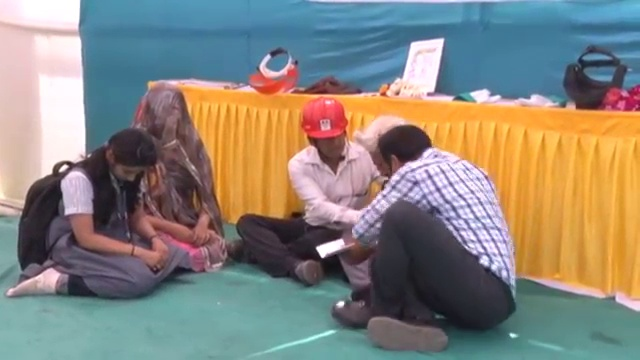helmet: (298, 99, 355, 144)
helmet_off: (95, 131, 159, 187), (140, 85, 192, 147), (361, 113, 402, 186), (380, 124, 432, 179)
helmet_on: (297, 99, 356, 166)
person: (350, 113, 516, 357), (6, 129, 183, 302), (233, 85, 377, 288), (127, 73, 225, 274), (337, 114, 402, 281)
